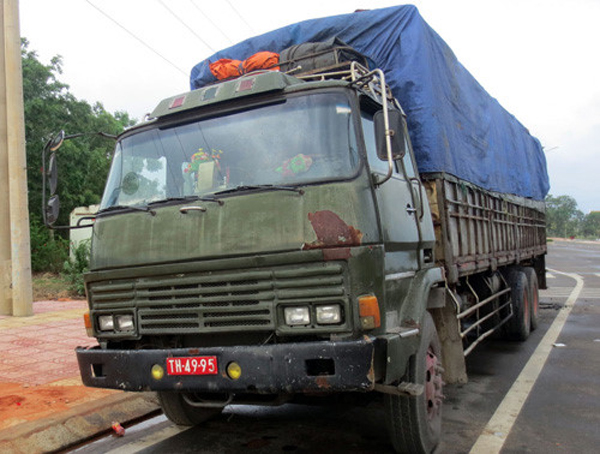plate: (164, 350, 219, 377)
